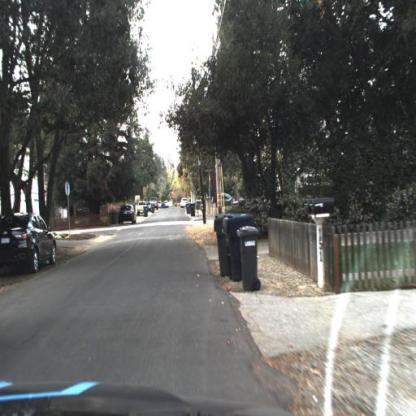car: (2, 210, 62, 272), (118, 202, 137, 228), (120, 206, 138, 224), (213, 191, 234, 206), (137, 200, 149, 216), (151, 197, 161, 211), (231, 198, 245, 208), (180, 199, 189, 208)
